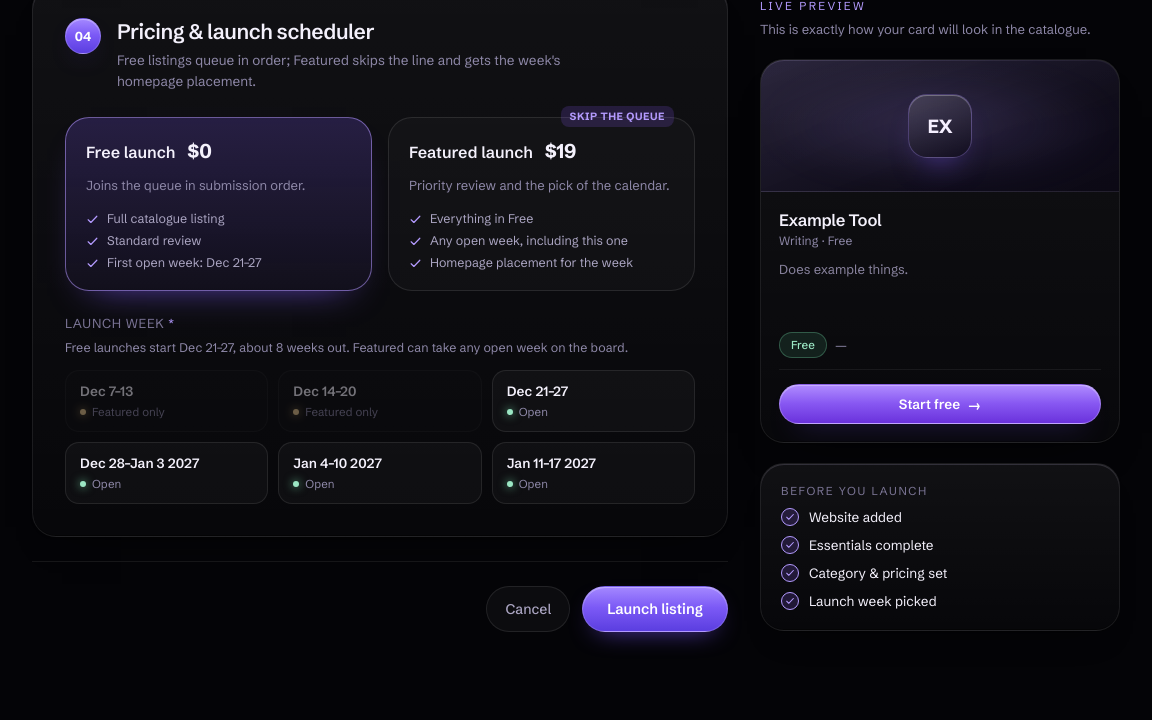
Test: SubmitPage with accounts › no accounts on the server (503): submits anonymously as before, with no status link
(page scrolled)
Click the button "Launch listing" at point(655, 609), box [582,586,728,632]
(page scrolled)
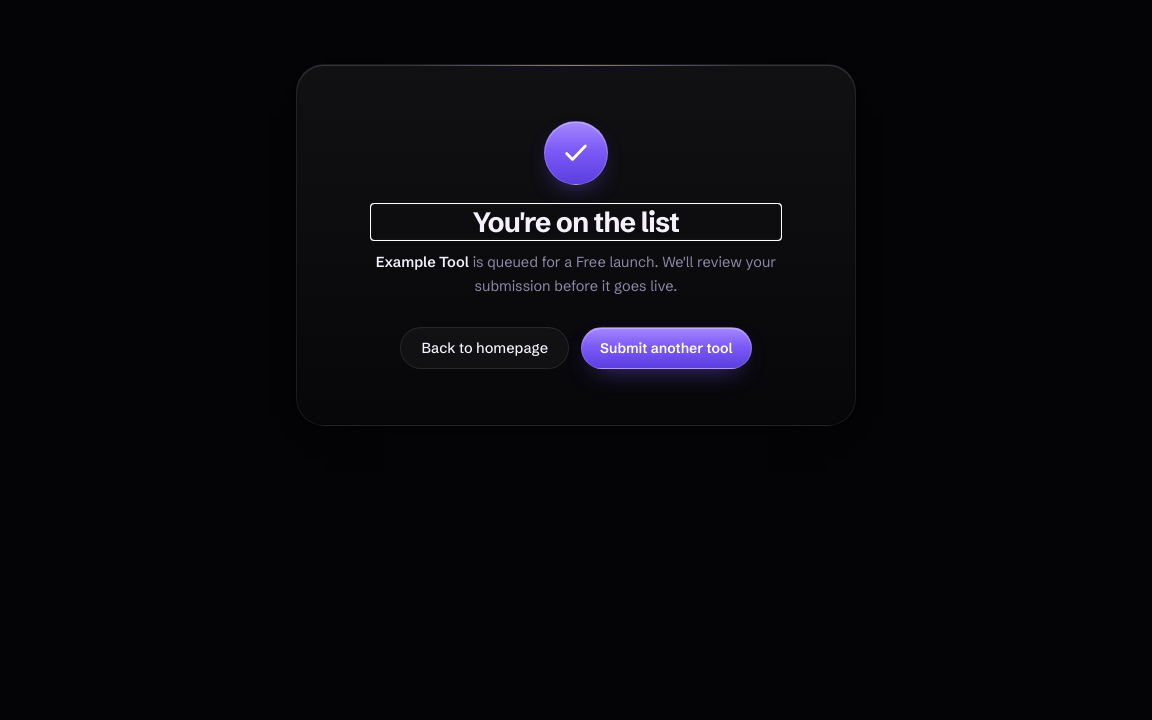
Result: the heading "You're on the list" is shown at [473,205,679,239]
Result: the text "review your submission before it goes live" is shown at [475,253,776,295]
